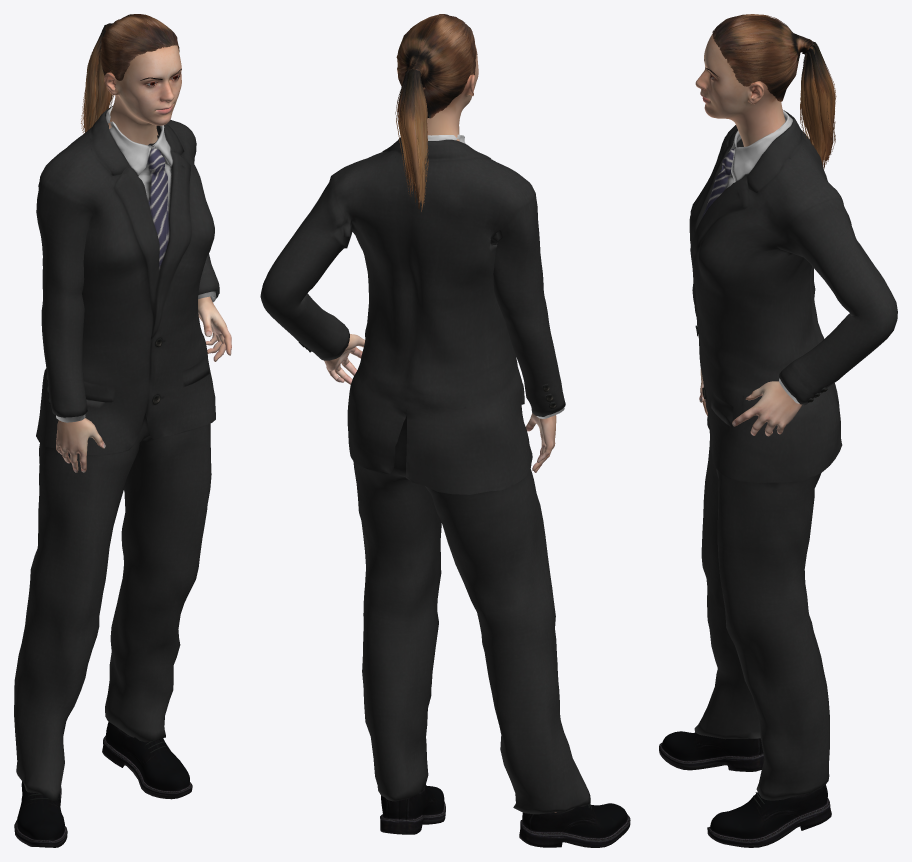
Rendered from elegant_female.dae.
The picture shows the model from 3 angles, left to right: view 1: azimuth 30°, elevation 25°; view 2: azimuth 150°, elevation 25°; view 3: azimuth 270°, elevation 25°; orthographic projection. The views are drawn at different scales.
Parts seen in each view (by area): view 1: elegant_female-male_elegantsuit01, elegant_female-female_generic, elegant_female-shoes03, elegant_female-ponytail01; view 2: elegant_female-male_elegantsuit01, elegant_female-ponytail01, elegant_female-shoes03, elegant_female-female_generic; view 3: elegant_female-male_elegantsuit01, elegant_female-ponytail01, elegant_female-shoes03, elegant_female-female_generic.
Part boxes in pixels (<box>): elegant_female-male_elegantsuit01: <box>14,106,219,800</box>; elegant_female-female_generic: <box>56,45,231,472</box>; elegant_female-shoes03: <box>14,722,192,847</box>; elegant_female-ponytail01: <box>81,14,179,133</box>; elegant_female-male_elegantsuit01: <box>260,134,590,814</box>; elegant_female-ponytail01: <box>395,14,476,211</box>; elegant_female-shoes03: <box>380,785,630,847</box>; elegant_female-female_generic: <box>324,44,556,812</box>; elegant_female-male_elegantsuit01: <box>689,110,897,800</box>; elegant_female-ponytail01: <box>712,14,836,169</box>; elegant_female-shoes03: <box>659,731,831,847</box>; elegant_female-female_generic: <box>695,33,802,436</box>.
Size of the model in its own units: 0.6447 by 0.5001 by 1.87.
Materials: 7 (7 with a texture image).
